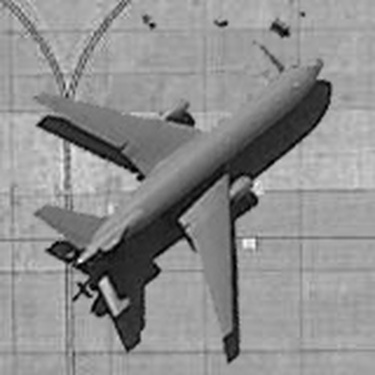airplane: (19, 44, 334, 359)
